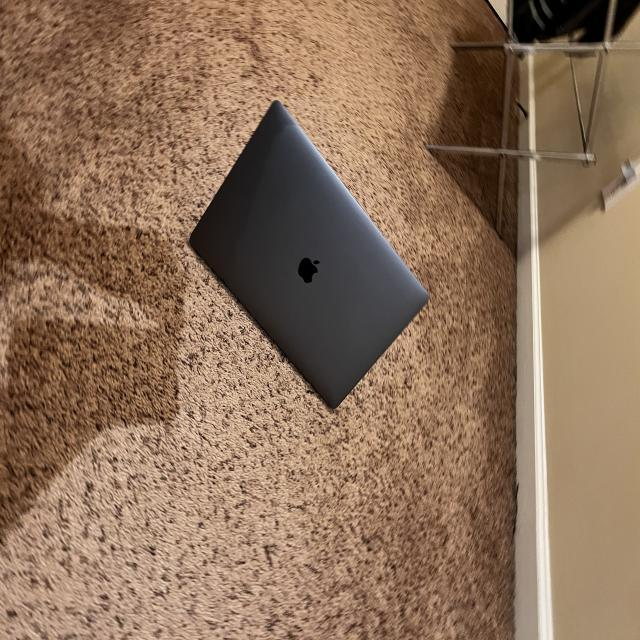laptop: (187, 98, 430, 409)
